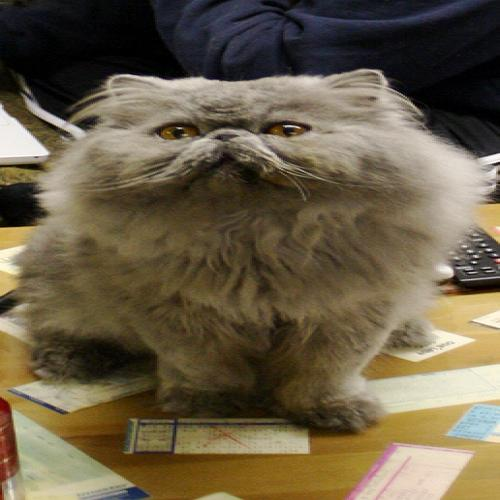persian: (59, 59, 450, 248)
